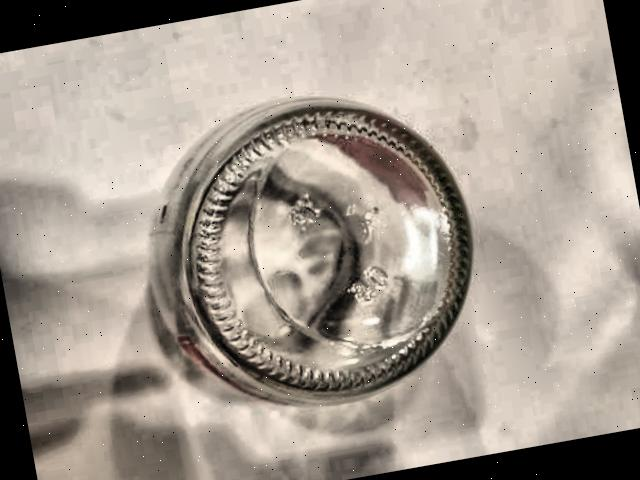Almennt: (76, 49, 514, 446)
